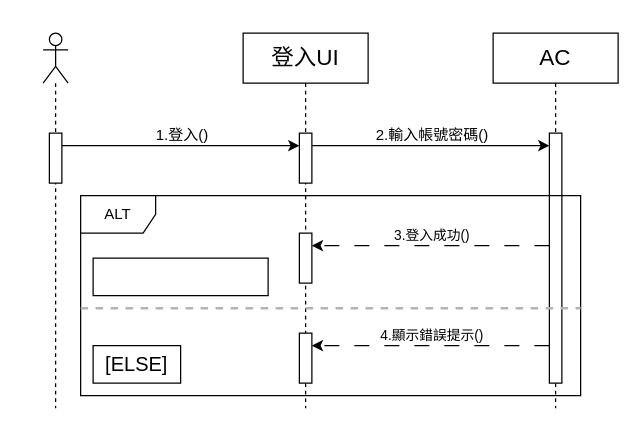
This 640x430 diagram has some shape labels left out. The shapes that lost their labels are listed below. From the top down, each one's centre as x and y in pixels, then its label:
pixel 55 220: 使用者
pixel 180 276: [IF 帳號密碼正確]
